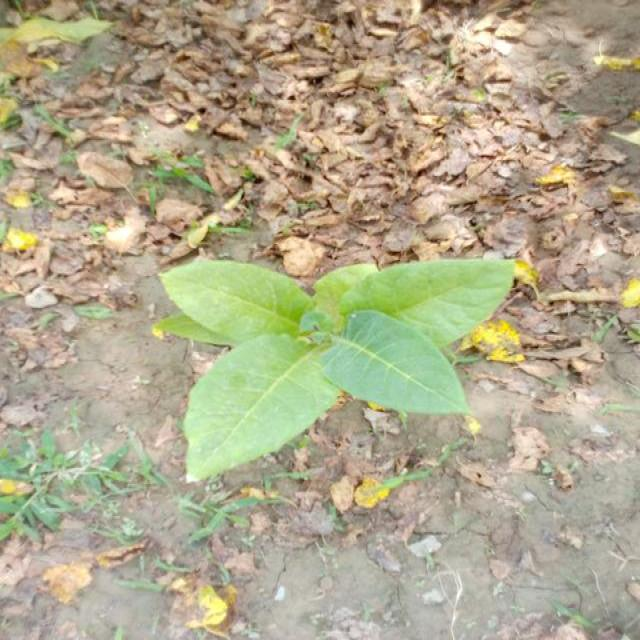crop: (166, 228, 524, 474)
